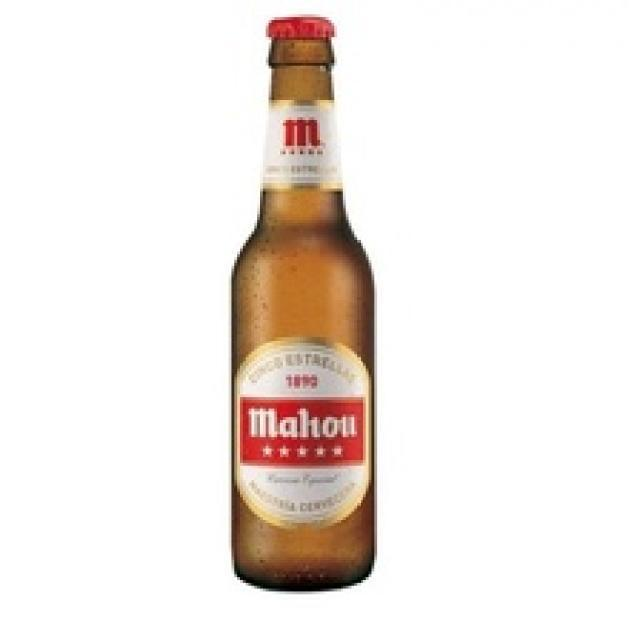Glass: (232, 44, 381, 592)
